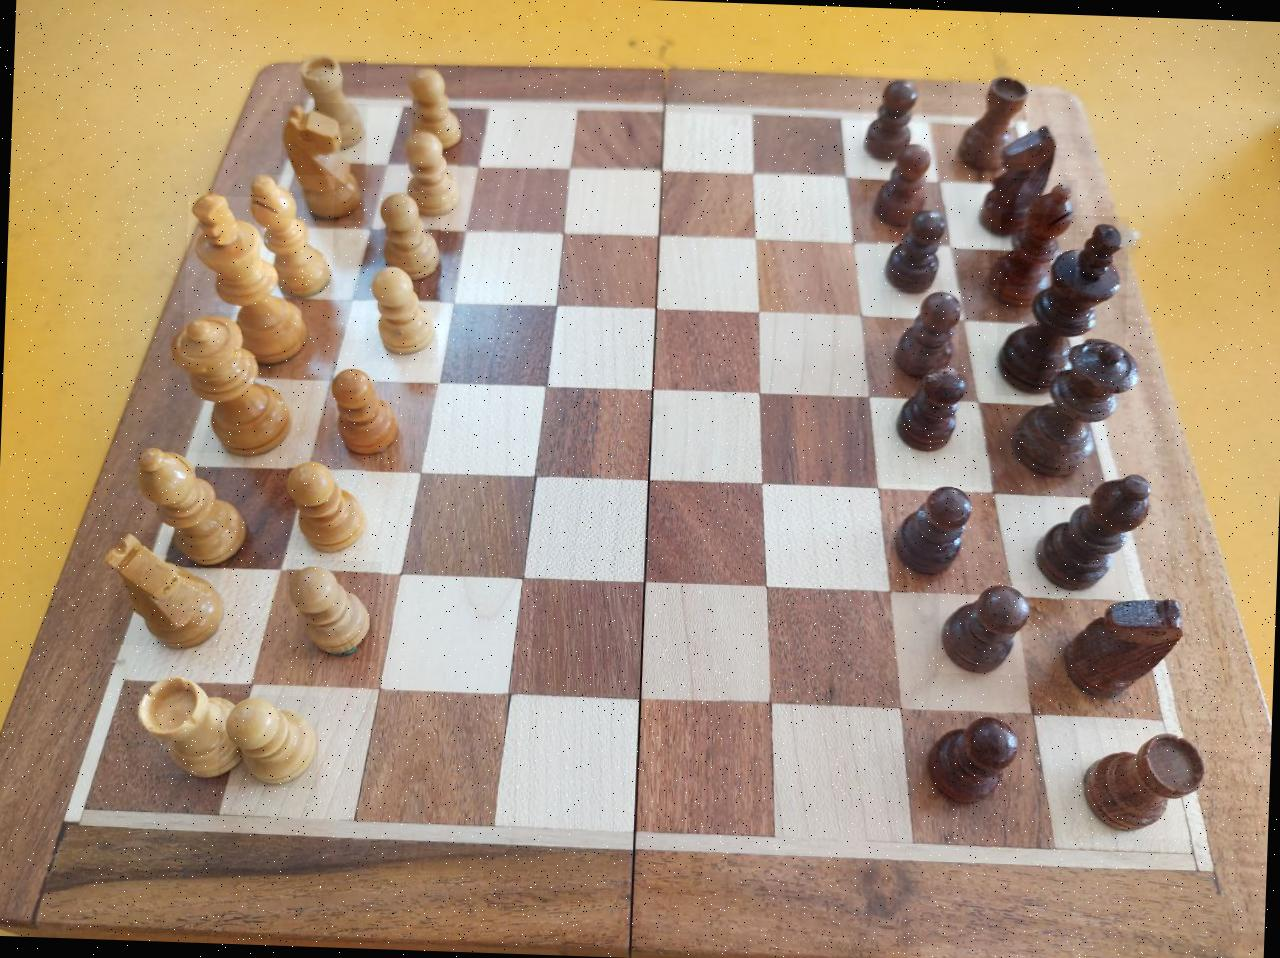black-camel: (1028, 462, 1162, 591), (988, 177, 1078, 288)
black-elephant: (1073, 729, 1210, 840), (950, 81, 1029, 163)
black-horse: (1056, 591, 1191, 701), (981, 126, 1060, 204)
black-king: (995, 212, 1129, 401)
black-pawn: (879, 483, 982, 576), (937, 579, 1030, 675), (927, 713, 1022, 801), (891, 365, 969, 455), (875, 203, 950, 292), (865, 141, 939, 230), (889, 289, 960, 376), (860, 67, 923, 158)
black-queen: (1007, 329, 1140, 476)
white-camel: (132, 446, 251, 558), (252, 174, 335, 280)
white-elephant: (138, 680, 221, 776), (299, 54, 366, 127)
white-horse: (107, 531, 221, 648), (279, 102, 368, 222)
white-king: (182, 195, 305, 359)
white-pawn: (284, 560, 381, 662), (216, 694, 320, 789), (364, 263, 441, 364), (284, 458, 365, 552), (327, 367, 406, 457), (378, 192, 442, 270), (404, 134, 459, 213), (412, 65, 466, 144)
white-queen: (165, 312, 296, 456)
